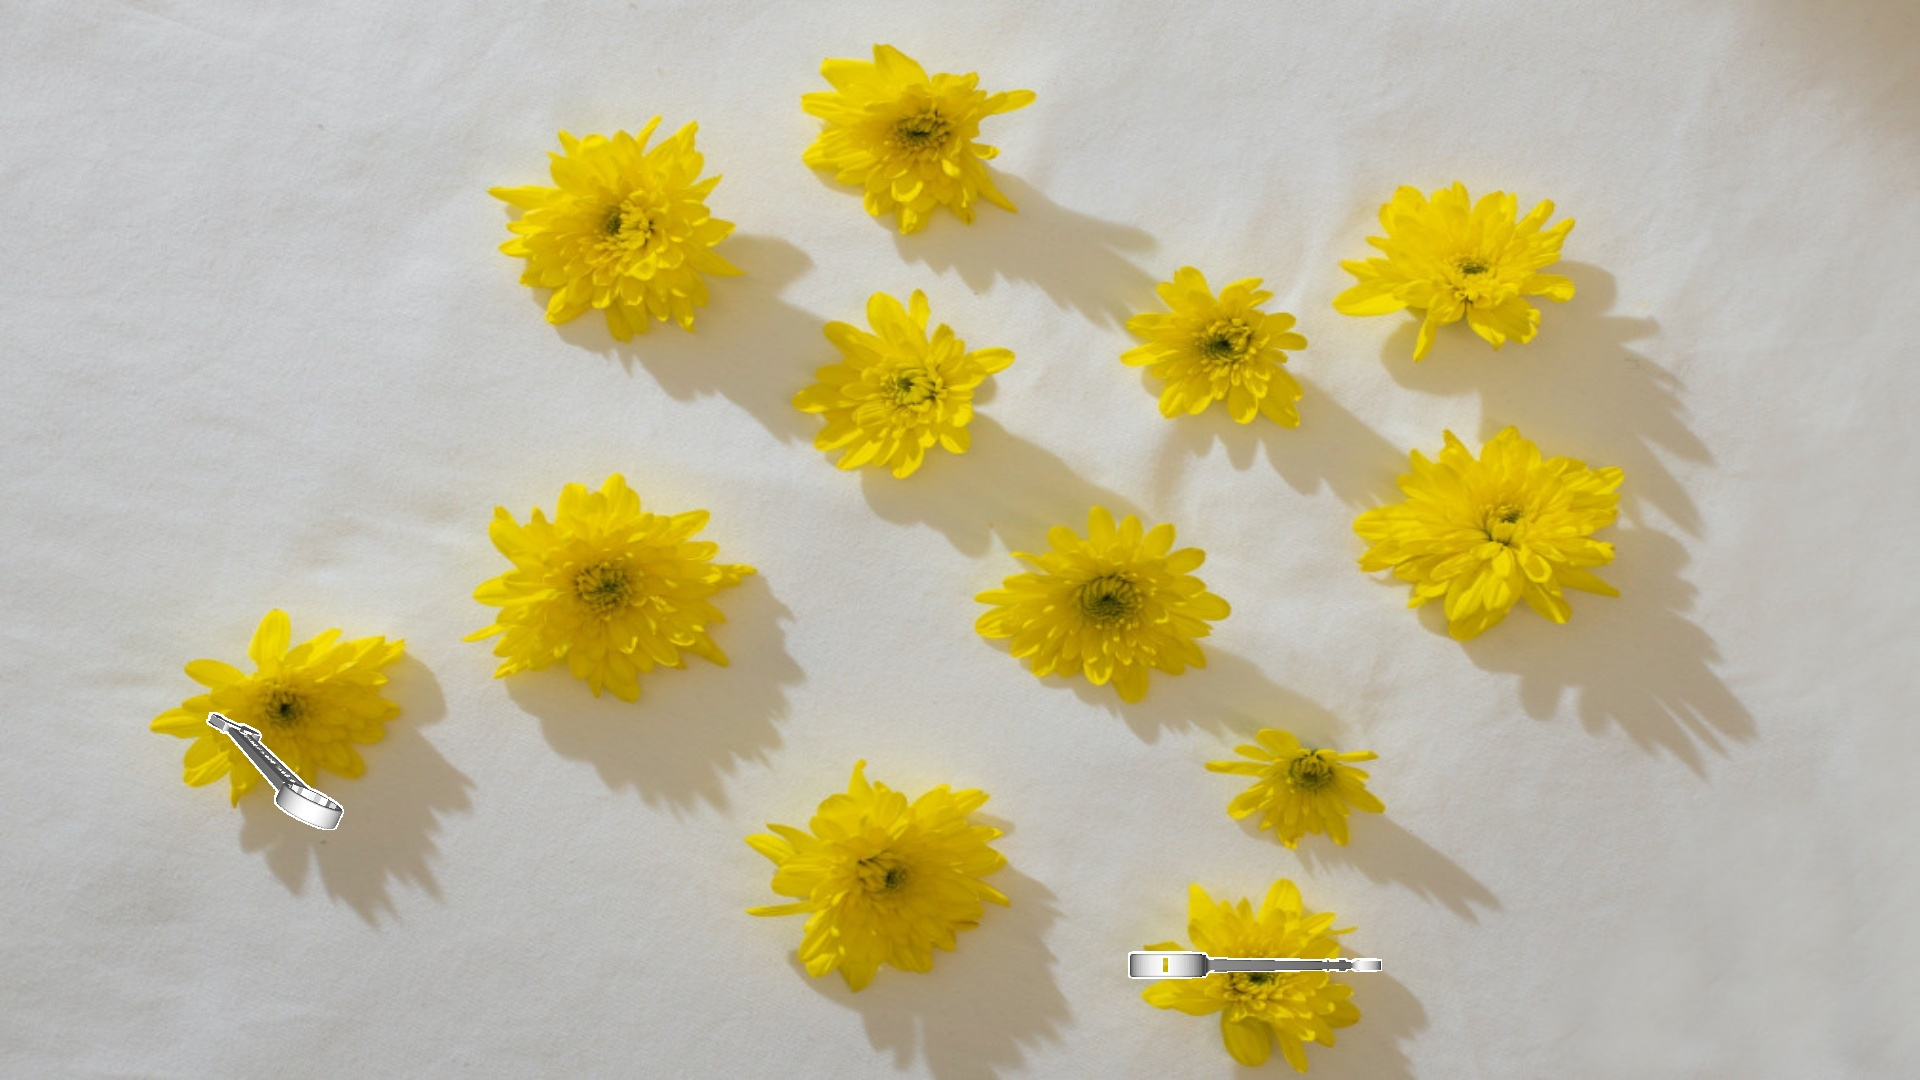Mixed Key: (206, 712, 343, 829), (1127, 951, 1381, 978)
